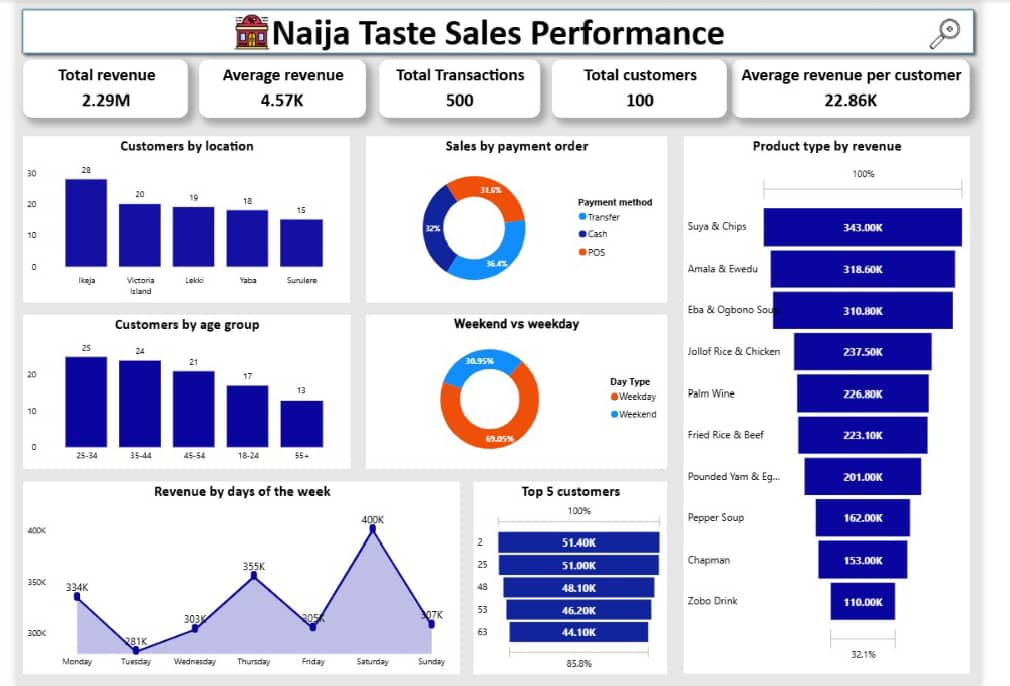

This screenshot's page, from the dashboard's own definition file:
{"tool":"powerbi","page":{"name":"Page 1","canvas":[1407,1002],"ordinal":0},"visuals":[{"type":"shape","box":[0,5,1407,81.8],"z":0},{"type":"clusteredColumnChart","title":"Customers by location","fields":{"Category":["public customers.location"],"Y":["Count(public customers.customer_id)"]},"box":[9.9,198.3,476,241.7],"z":1000},{"type":"funnel","title":"Top 5 customers","fields":{"Category":["public customers.customer_id"],"Y":["Sum(public sales.total_price)"]},"box":[667.2,701.4,282.3,281],"z":2000},{"type":"clusteredColumnChart","title":"Customers by age group","fields":{"Category":["public customers.Age Group"],"Y":["Count(public customers.customer_id)"]},"box":[9.8,458.2,476.6,223.6],"z":3000},{"type":"funnel","title":"Product type by revenue","fields":{"Category":["public products.product_name"],"Y":["public sales.Total Price"]},"box":[974.4,198.3,417.8,783.5],"z":4000},{"type":"donutChart","title":"Sales by payment order","fields":{"Category":["public sales.payment_method"],"Y":["Count(public sales.sale_id)"]},"box":[509.5,198.3,440.1,241.7],"z":5000},{"type":"areaChart","title":"Revenue by days of the week","fields":{"Category":["public sales.Day of Week"],"Y":["public sales.Total Price"]},"box":[9.8,701.4,636.6,281],"z":6000},{"type":"donutChart","title":"Weekend vs weekday","fields":{"Category":["public sales.Day Type"],"Y":["Sum(public sales.total_price)"]},"box":[509.6,458.2,439.9,223.6],"z":7000},{"type":"card","title":"Total revenue","fields":{"Values":["public sales.Total Revenue"]},"box":[9.9,86.8,240.5,84.3],"z":8000},{"type":"card","title":"Total Transactions","fields":{"Values":["public sales.Total Transactions"]},"box":[529.3,86.8,235.5,84.3],"z":9000},{"type":"card","title":"Average revenue","fields":{"Values":["public sales.Average Revenue"]},"box":[266.5,86.8,243,84.3],"z":10000},{"type":"card","title":"Average revenue per customer","fields":{"Values":["public customers.Average Revenue per Customer"]},"box":[1045,86.8,347.1,84.3],"z":11000},{"type":"card","title":"Total customers","fields":{"Values":["public customers.Total Customers"]},"box":[782.2,86.8,255.4,84.3],"z":12000},{"type":"image","box":[303.7,16.1,78.1,60.7],"z":13000},{"type":"image","box":[1304.1,16.1,102.9,67],"z":14000}]}

Visuals, with their boxes on the page's 1407x1002 design canvas (x1, y1, x2, y2). These are canvas units, not pixel positions in the 1010x686 screenshot, which may show the page scaled, cropped or inside an application window:
shape: (left=0, top=5, right=1407, bottom=87)
"Customers by location" clusteredColumnChart: (left=10, top=198, right=486, bottom=440)
"Top 5 customers" funnel: (left=667, top=701, right=950, bottom=982)
"Customers by age group" clusteredColumnChart: (left=10, top=458, right=486, bottom=682)
"Product type by revenue" funnel: (left=974, top=198, right=1392, bottom=982)
"Sales by payment order" donutChart: (left=510, top=198, right=950, bottom=440)
"Revenue by days of the week" areaChart: (left=10, top=701, right=646, bottom=982)
"Weekend vs weekday" donutChart: (left=510, top=458, right=950, bottom=682)
"Total revenue" card: (left=10, top=87, right=250, bottom=171)
"Total Transactions" card: (left=529, top=87, right=765, bottom=171)
"Average revenue" card: (left=266, top=87, right=510, bottom=171)
"Average revenue per customer" card: (left=1045, top=87, right=1392, bottom=171)
"Total customers" card: (left=782, top=87, right=1038, bottom=171)
image: (left=304, top=16, right=382, bottom=77)
image: (left=1304, top=16, right=1407, bottom=83)
